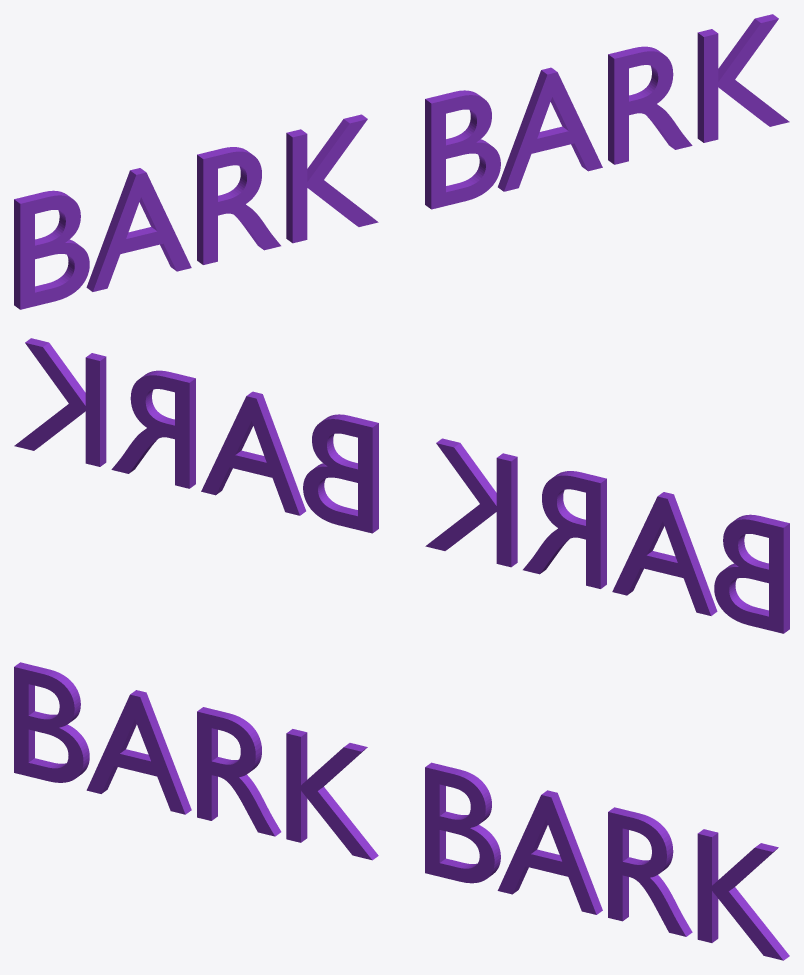
Rendered from barkbark.fbx.
3 renders of one model, top to bottom at view 1: azimuth 30°, elevation 25°; view 2: azimuth 150°, elevation 25°; view 3: azimuth 330°, elevation 25°, orthographic.
Parts seen in each view (by area): view 1: Text; view 2: Text; view 3: Text.
Boxes of the visible parts, <box> form: Text: <box>14,14,789,309</box>; Text: <box>14,338,789,633</box>; Text: <box>14,662,789,960</box>.
Bounding box in the file's own units: 518 × 68.6 × 7.34.
